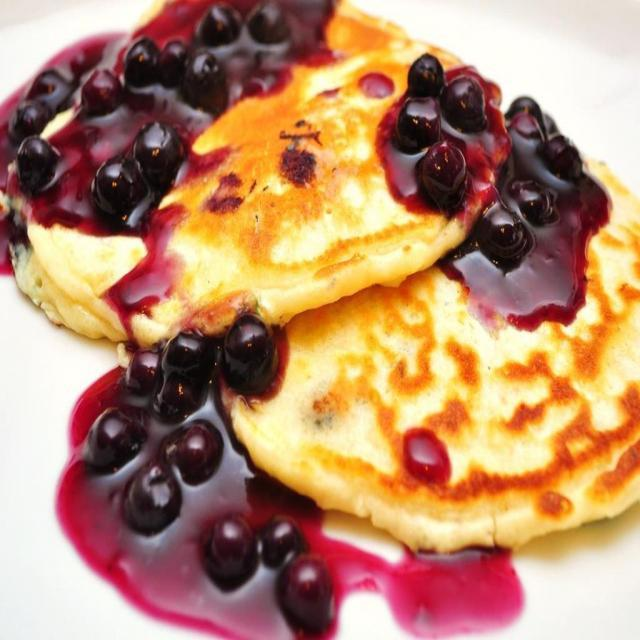Pancake: (217, 112, 639, 548), (4, 0, 506, 344)
